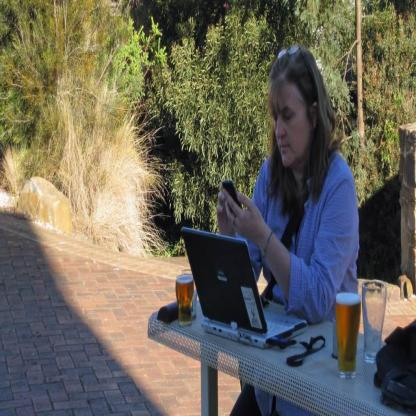board: (181, 226, 307, 350)
